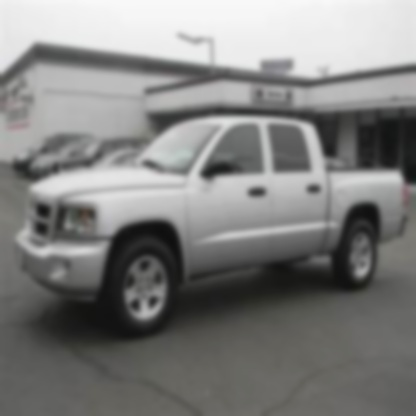Vehicle: (13, 111, 408, 338)
